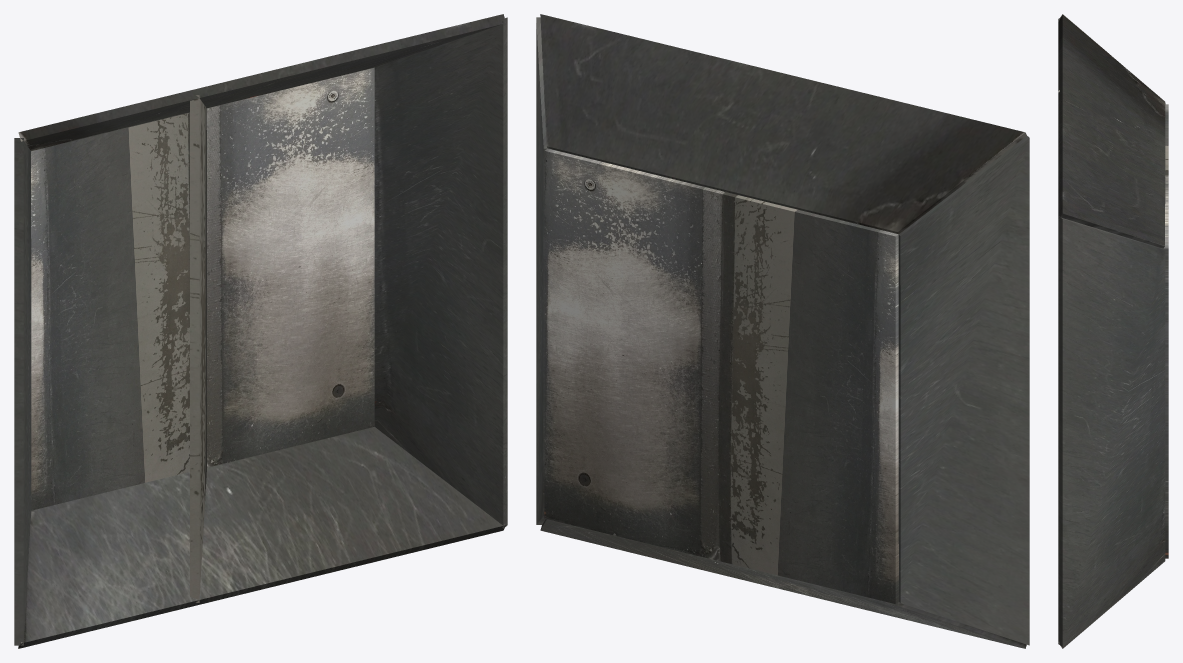
File: tray_textured2.obj
The picture shows the model from 3 angles, left to right: view 1: azimuth 30°, elevation 25°; view 2: azimuth 150°, elevation 25°; view 3: azimuth 270°, elevation 25°; orthographic projection. The views are drawn at different scales.
Parts seen in each view (by area): view 1: base_Cube.004, edge_2_Cube, edge_3_Cube.002, edge_1_Cube.003, edge_4_Cube.001, edge_5_Cube.005; view 2: base_Cube.004, edge_4_Cube.001, edge_1_Cube.003, edge_3_Cube.002, edge_2_Cube; view 3: edge_2_Cube, edge_1_Cube.003, base_Cube.004, edge_3_Cube.002.
Boxes of the visible parts, bbox=[...] form: base_Cube.004: bbox=[31, 67, 374, 510]; edge_2_Cube: bbox=[374, 17, 507, 528]; edge_3_Cube.002: bbox=[18, 427, 505, 648]; edge_1_Cube.003: bbox=[18, 14, 505, 150]; edge_4_Cube.001: bbox=[14, 138, 31, 645]; edge_5_Cube.005: bbox=[190, 95, 206, 602]; base_Cube.004: bbox=[544, 148, 898, 604]; edge_4_Cube.001: bbox=[898, 136, 1029, 645]; edge_1_Cube.003: bbox=[540, 14, 1026, 234]; edge_3_Cube.002: bbox=[540, 519, 1026, 648]; edge_2_Cube: bbox=[536, 17, 547, 524]; edge_2_Cube: bbox=[1058, 216, 1165, 646]; edge_1_Cube.003: bbox=[1058, 14, 1165, 248]; base_Cube.004: bbox=[1163, 104, 1168, 558]; edge_3_Cube.002: bbox=[1058, 560, 1165, 648].
Size of the model in its own units: 1.18 by 1.18 by 0.2712.
